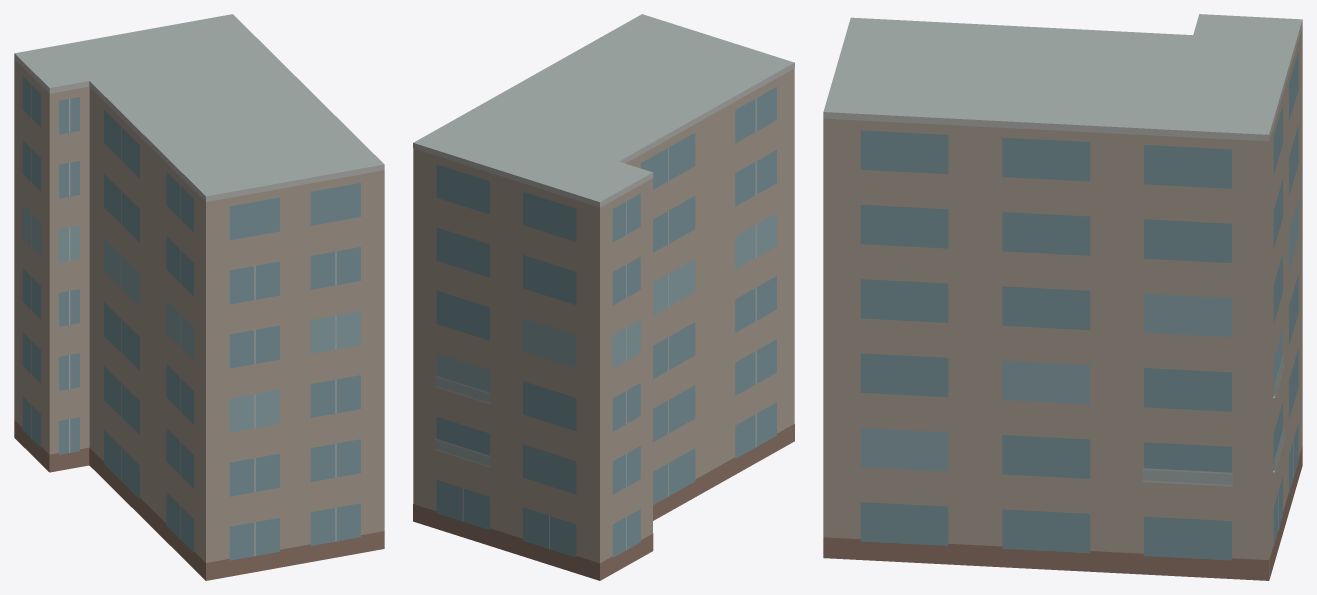
Rendered from survey-upis-32873759.glb.
The picture shows the model from 3 angles, left to right: view 1: azimuth 30°, elevation 25°; view 2: azimuth 150°, elevation 25°; view 3: azimuth 270°, elevation 25°; orthographic projection. The views are drawn at different scales.
Visible parts, largest first — view 1: survey-upis-32873759.tmp; view 2: survey-upis-32873759.tmp; view 3: survey-upis-32873759.tmp.
Part boxes in pixels (x1=…): survey-upis-32873759.tmp: x1=14, y1=14, x2=384, y2=580; survey-upis-32873759.tmp: x1=413, y1=14, x2=794, y2=580; survey-upis-32873759.tmp: x1=823, y1=14, x2=1302, y2=580.
Size of the model in its own units: 9.65 by 16.6 by 16.17.
